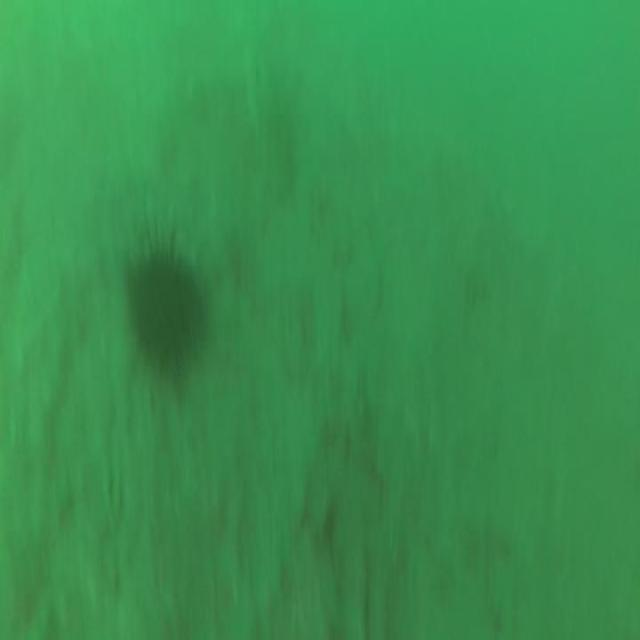echinus: (129, 256, 202, 376)
